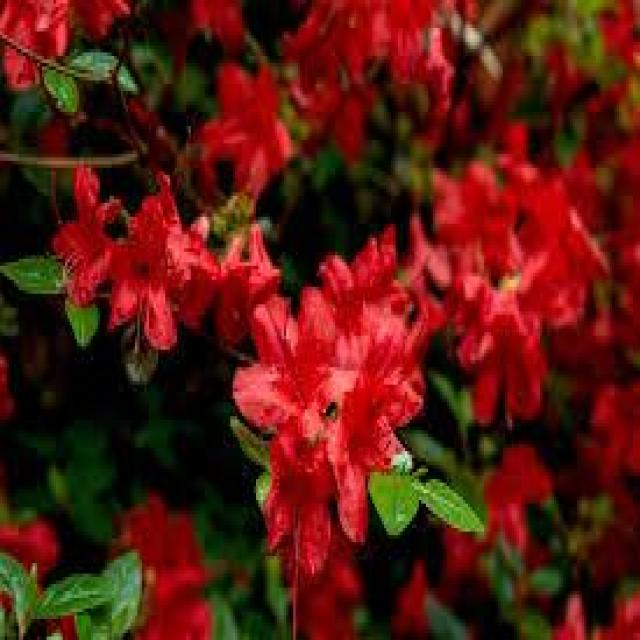organic waste: (236, 309, 402, 551), (305, 243, 428, 421), (87, 186, 185, 360)
